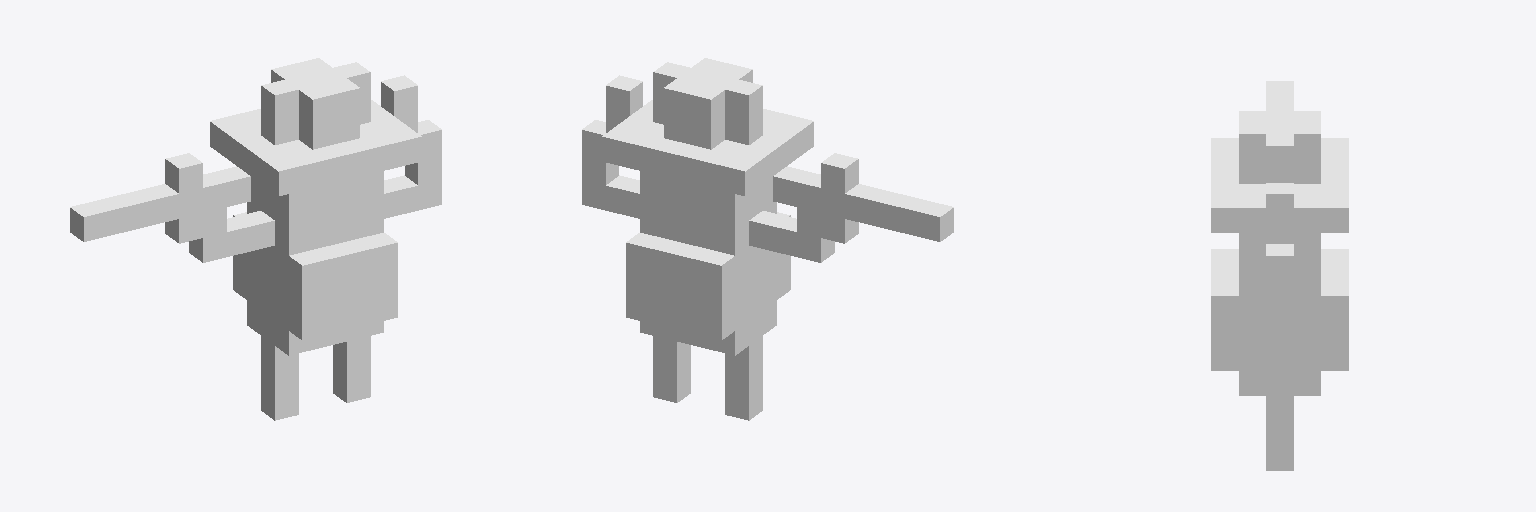
Rendered from take_dmg.obj.
3 views of the same model, side by side, from view 1: azimuth 30°, elevation 25°; view 2: azimuth 150°, elevation 25°; view 3: azimuth 270°, elevation 25° (orthographic).
Bounding box in the file's own units: 15 × 13 × 5.